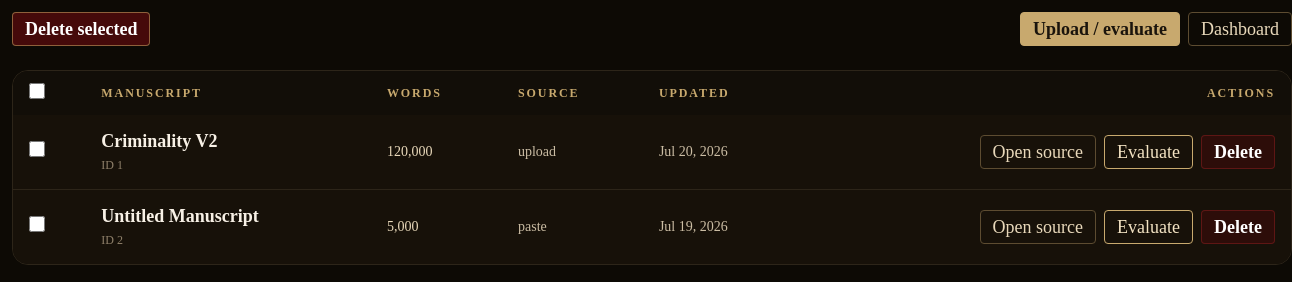
it: ManuscriptLibraryClient › keeps bulk delete disabled until rows are selected
Expected: the button "Delete selected" is disabled, [12,12,150,46]
Click the checkbox named "Select Criminality V2" at coordinates (37, 149), box [29,141,45,157]
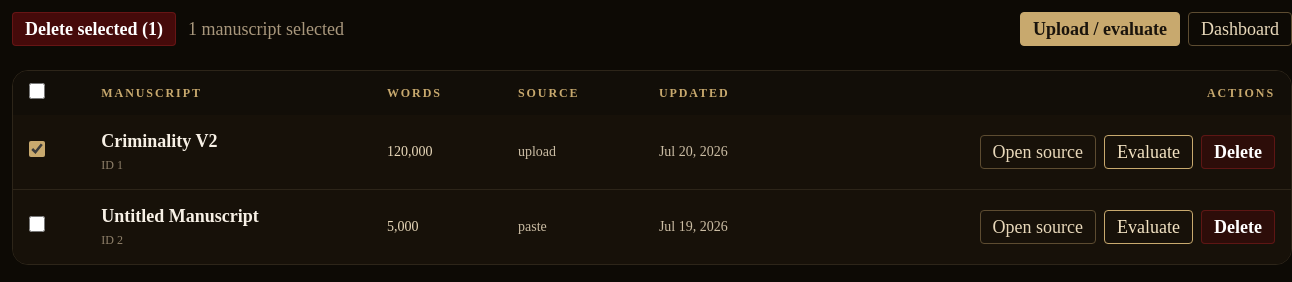
Result: the button "Delete selected (1)" is enabled at [12,12,176,46]
